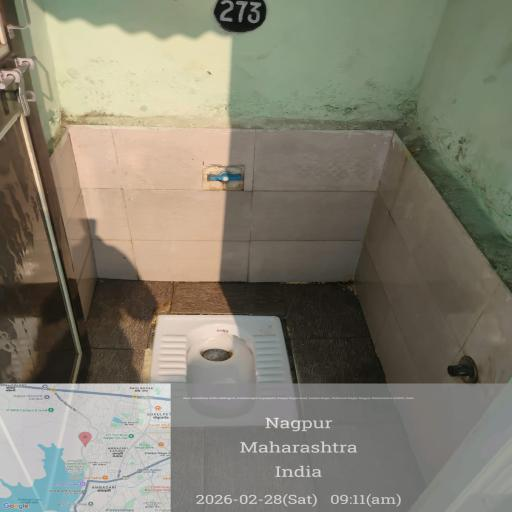clean_floor: (64, 340, 512, 512), (41, 135, 396, 283)
clean_indian: (135, 304, 310, 419)
